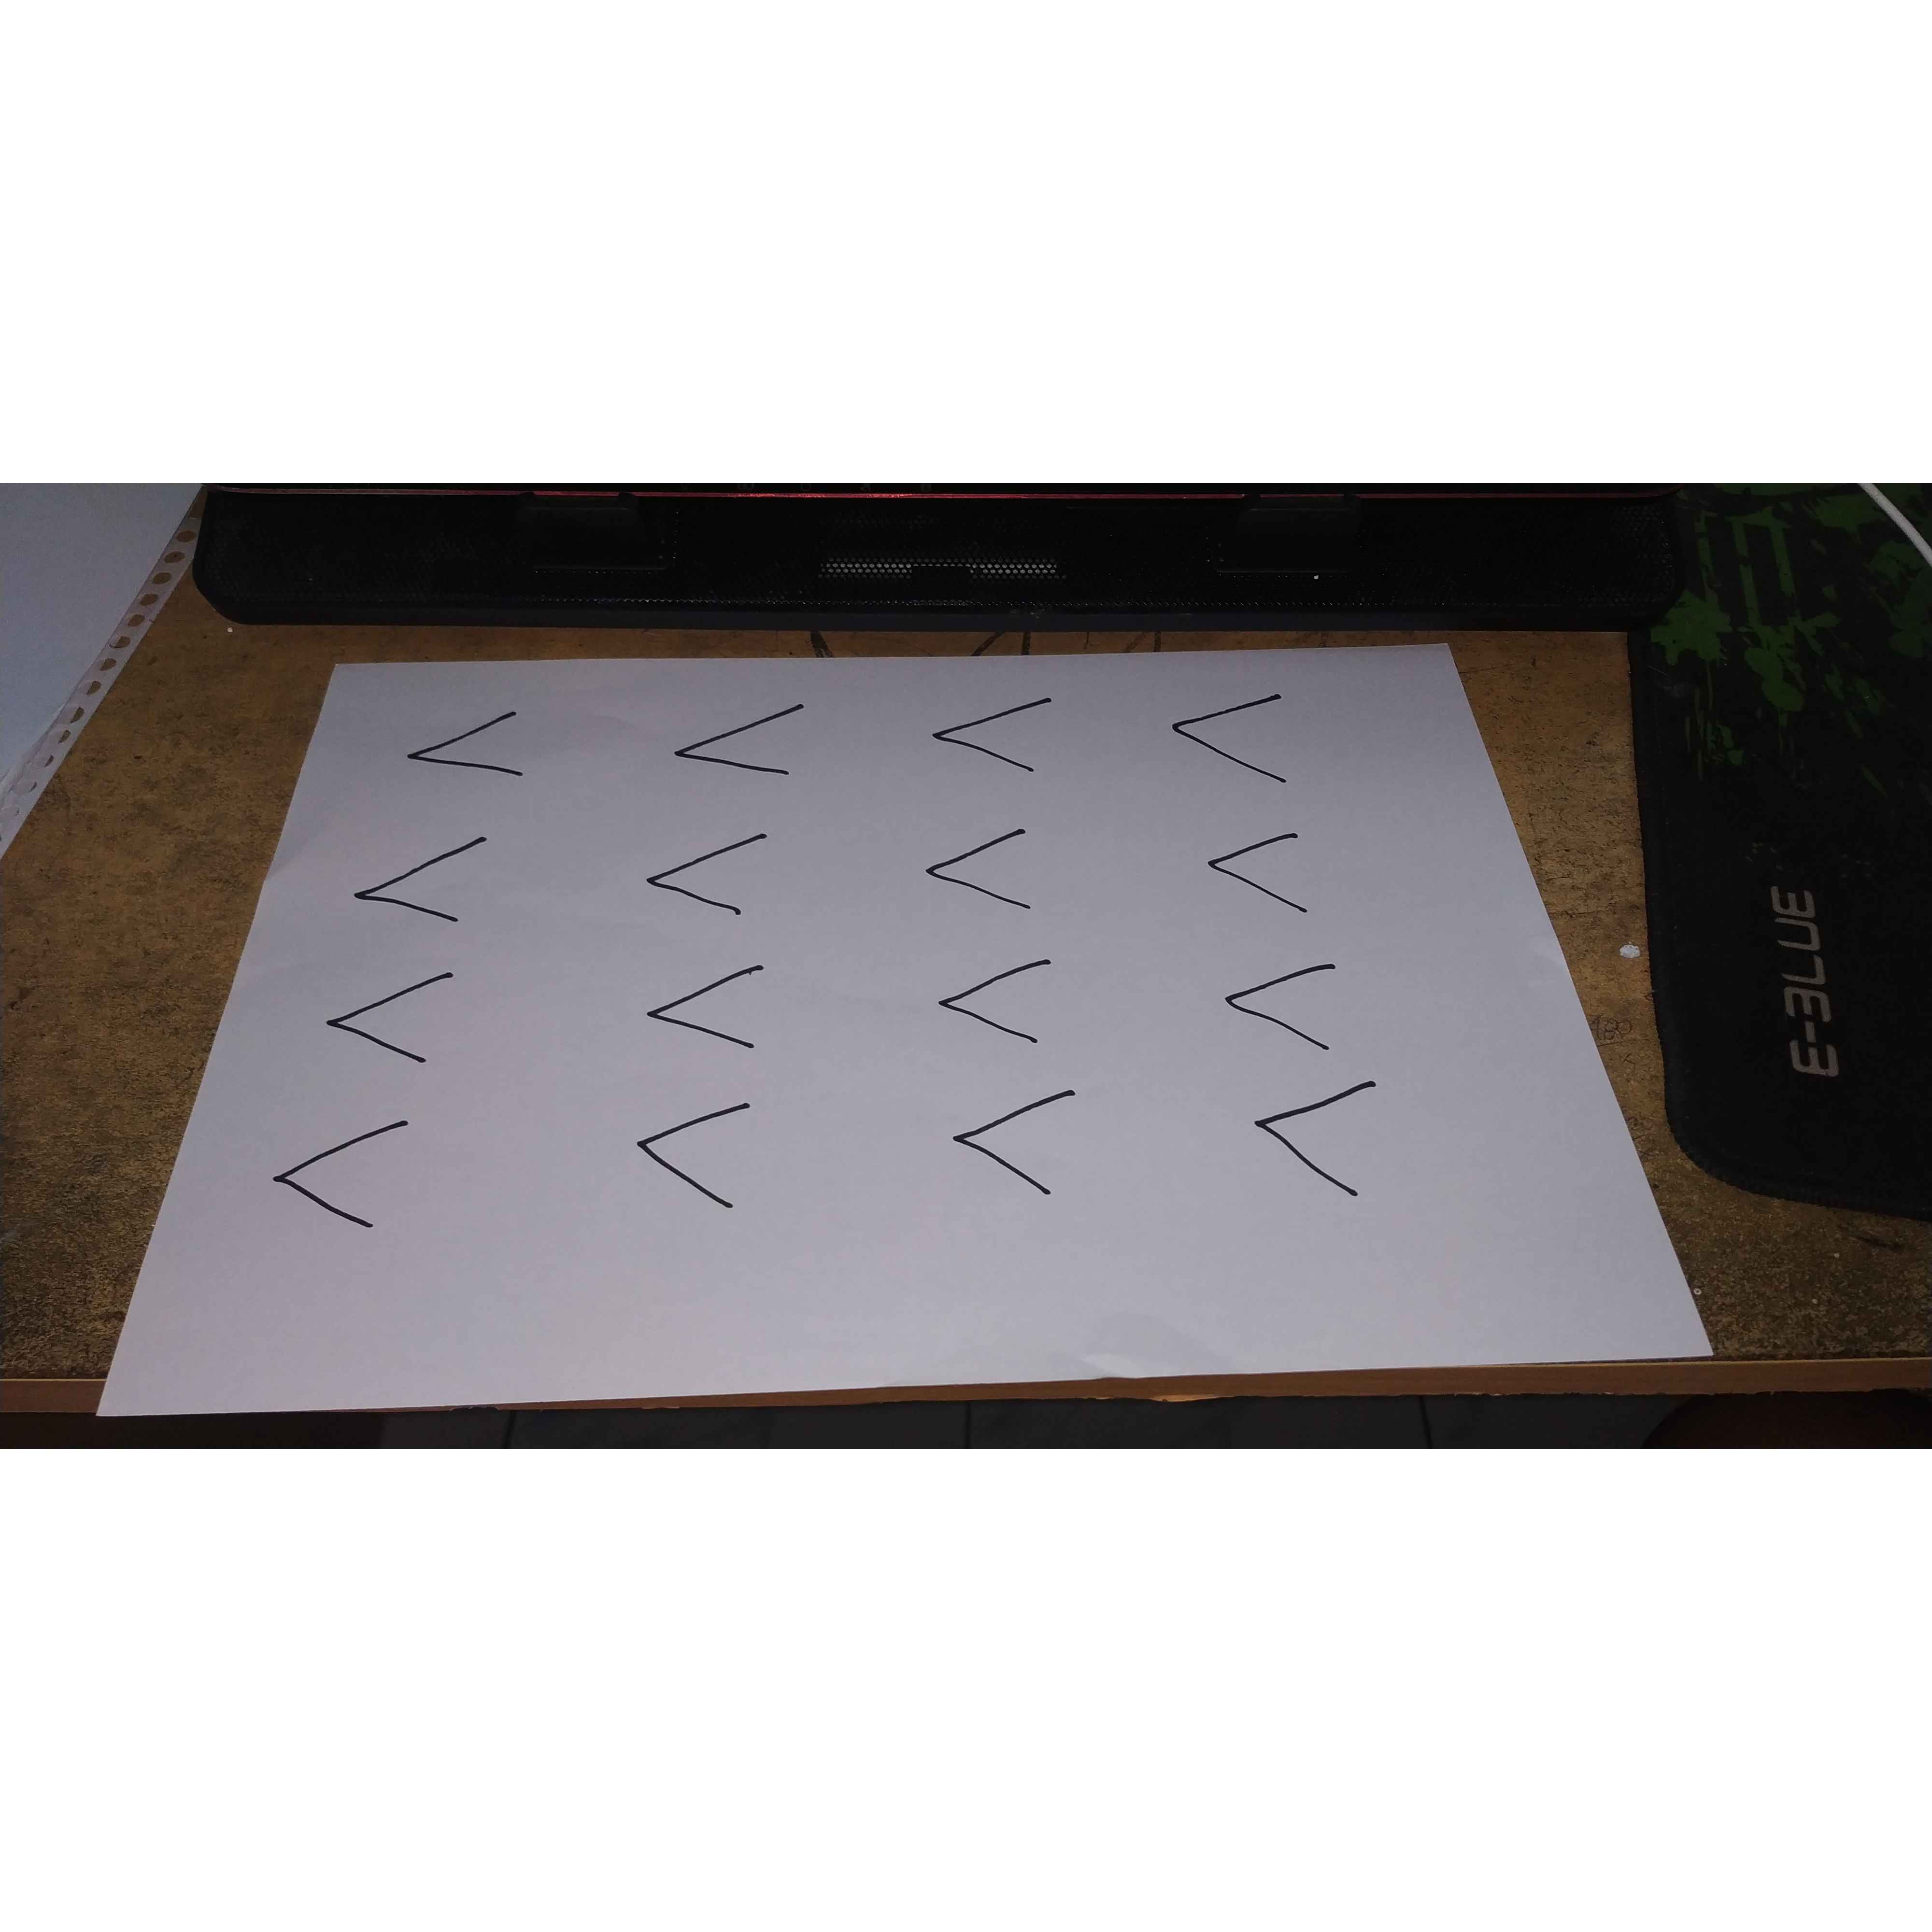lessthan: (927, 1080, 1112, 1218), (259, 1107, 458, 1233), (610, 1092, 786, 1226), (1181, 819, 1370, 932), (1242, 1075, 1393, 1214), (343, 825, 517, 941), (316, 957, 486, 1073), (900, 819, 1072, 928), (910, 684, 1086, 785), (671, 695, 830, 806), (1204, 955, 1366, 1065), (633, 819, 788, 932), (394, 693, 551, 800), (1164, 687, 1313, 798), (635, 955, 774, 1067), (929, 949, 1065, 1058)
